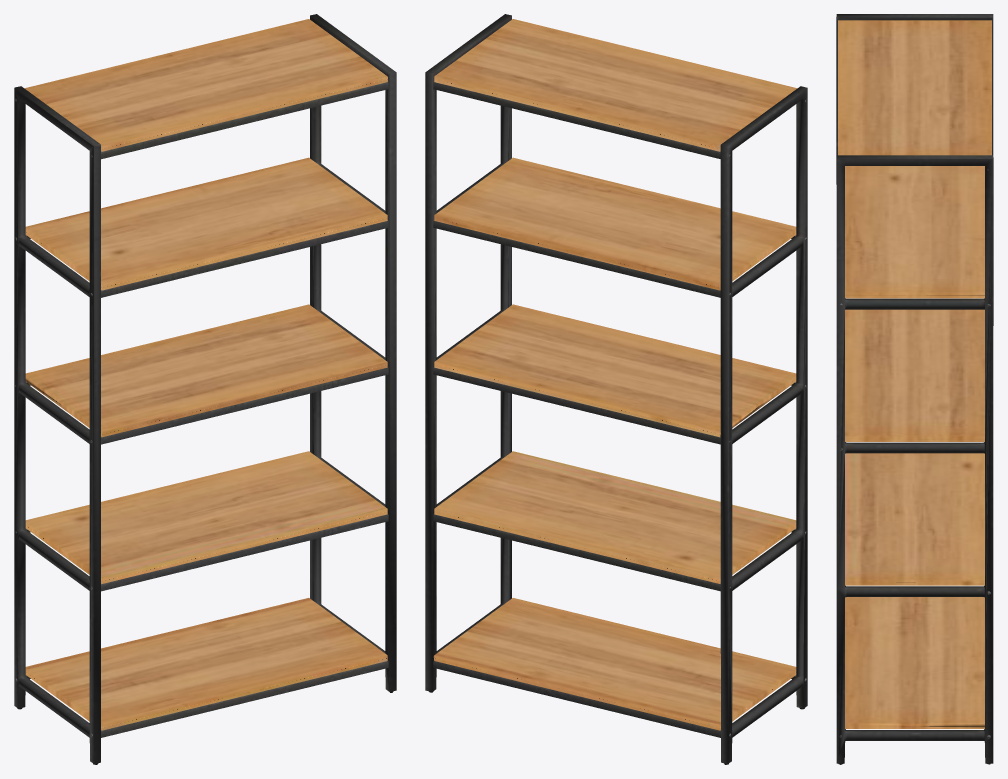
File: props-v1.glb
3 renders of one model, left to right at view 1: azimuth 30°, elevation 25°; view 2: azimuth 150°, elevation 25°; view 3: azimuth 270°, elevation 25°, orthographic. The views are drawn at different scales.
Parts seen in each view (by area): view 1: steel_frame_shelves_01; view 2: steel_frame_shelves_01; view 3: steel_frame_shelves_01.
Boxes of the visible parts, x1=… form: steel_frame_shelves_01: x1=14, y1=14, x2=396, y2=764; steel_frame_shelves_01: x1=425, y1=14, x2=807, y2=764; steel_frame_shelves_01: x1=836, y1=14, x2=993, y2=764.
Bounding box in the file's own units: 10.97 × 21.4 × 5.02.
9 materials, 9 textured.
